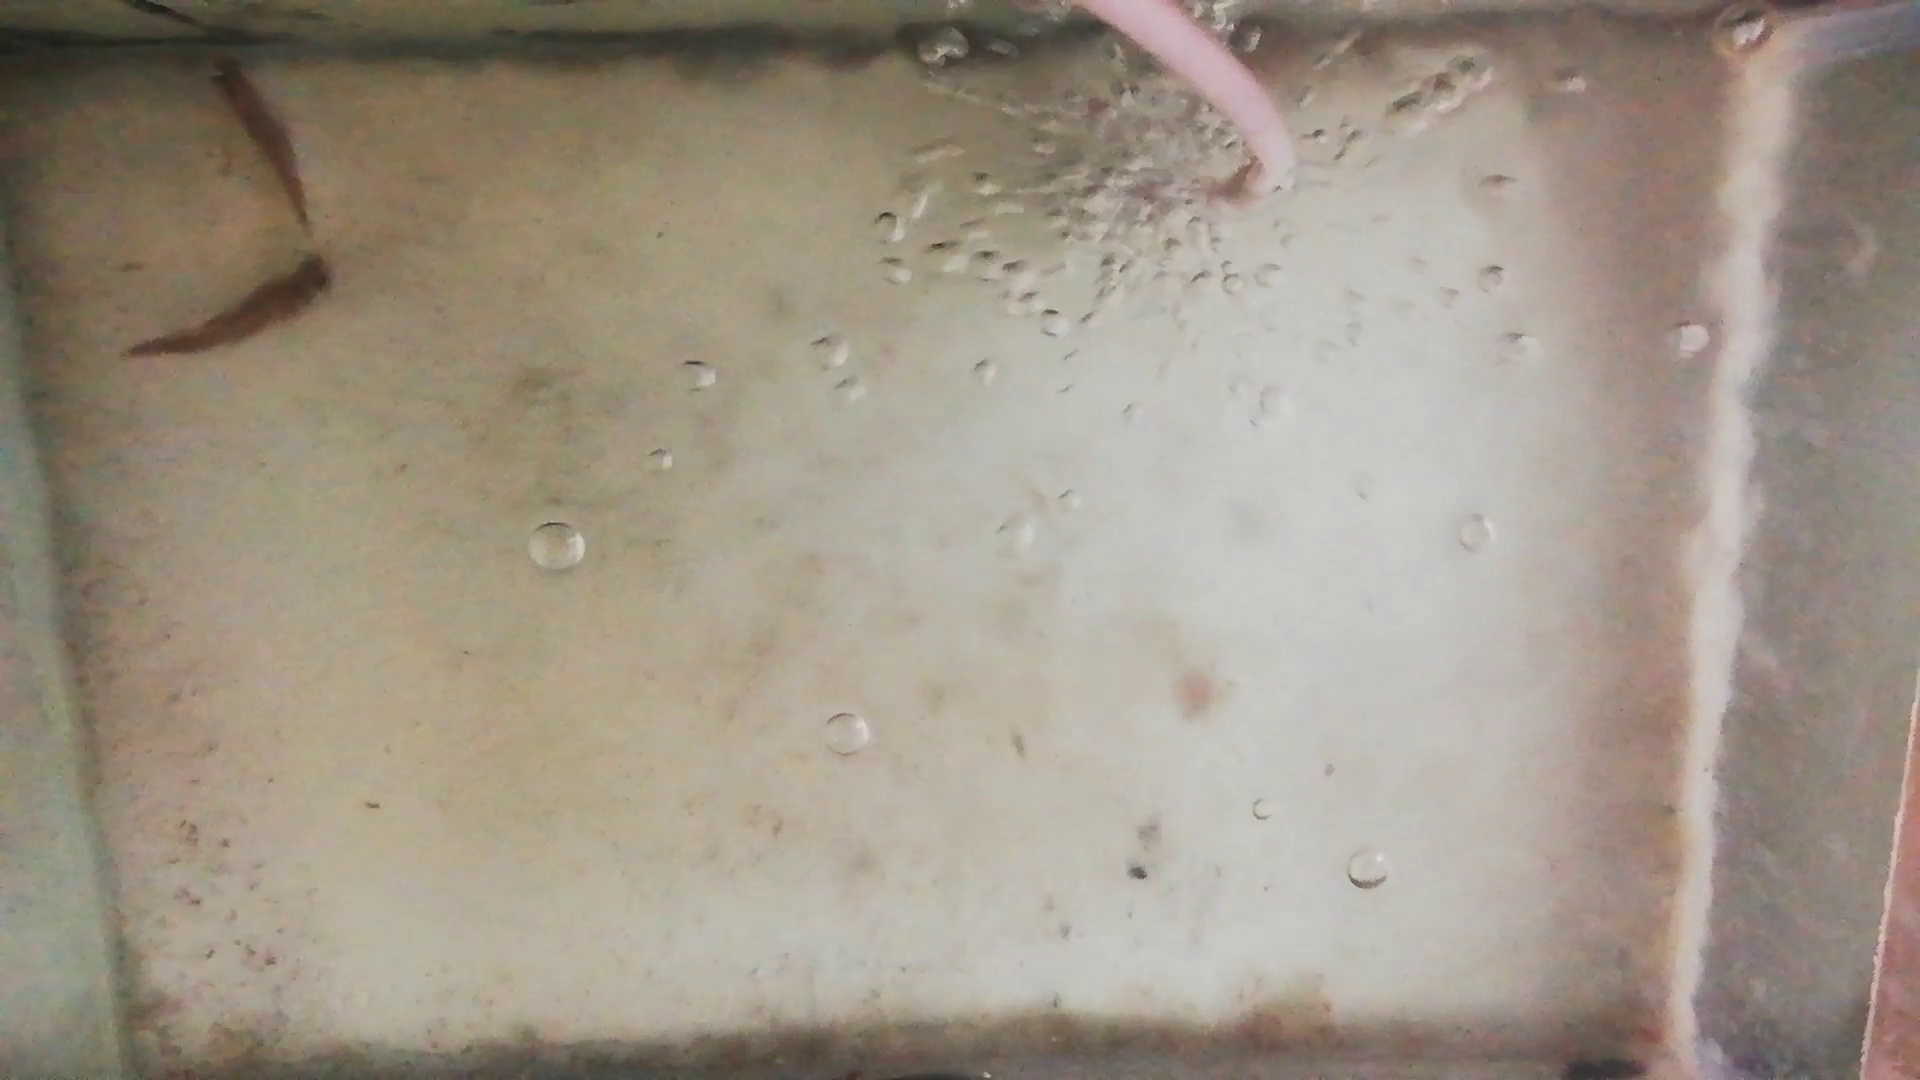fish: (125, 253, 338, 360), (208, 53, 313, 225)
